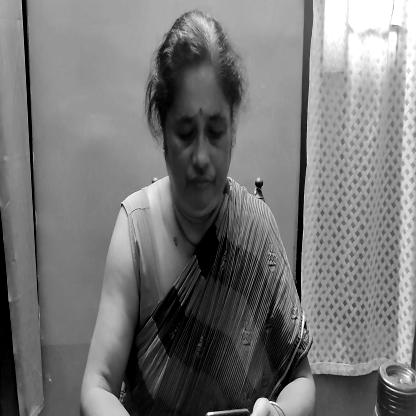Distracted: (149, 20, 243, 226)
